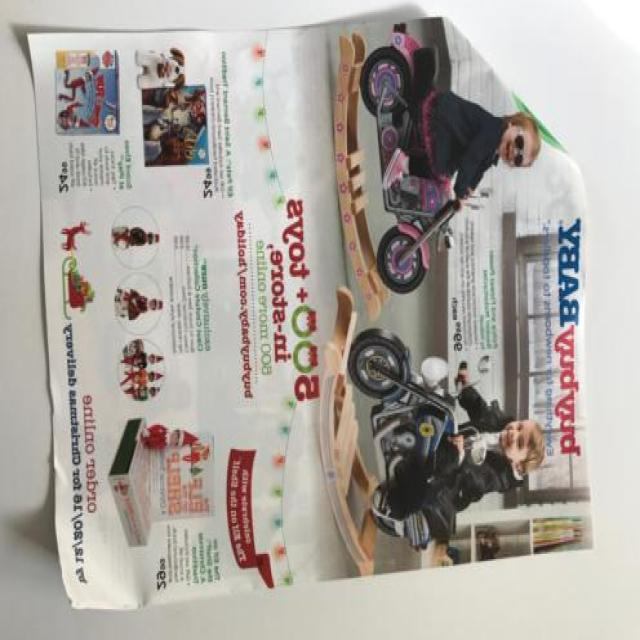kertas: (23, 17, 598, 610)
